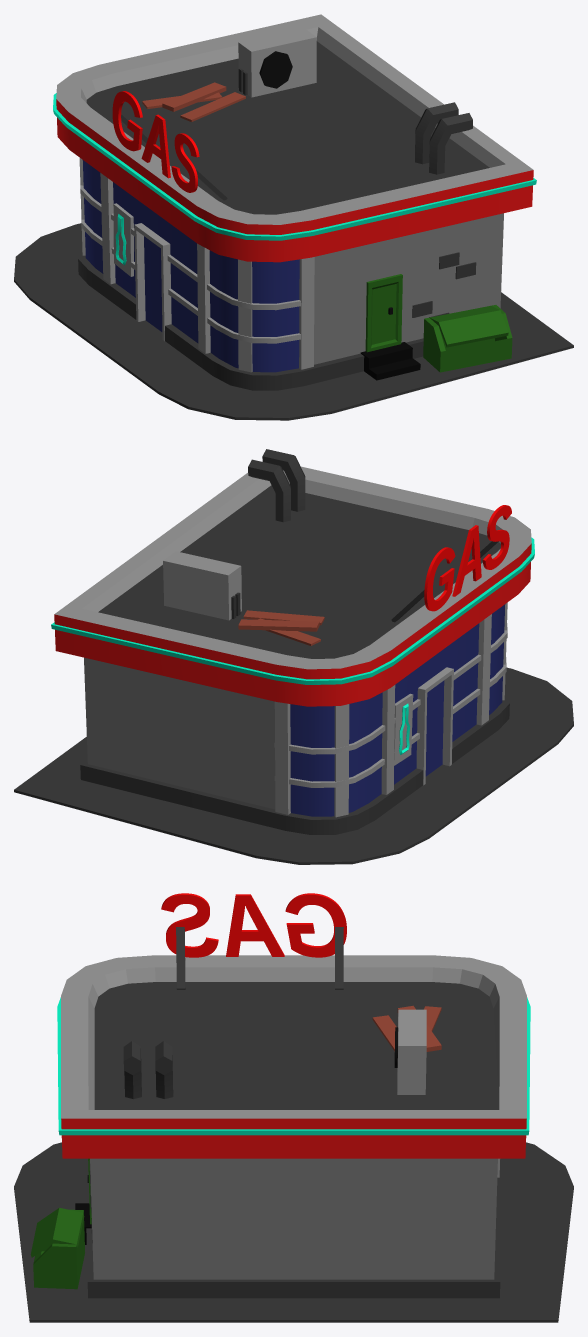
File: BuildingGasStantionBase.fbx
The picture shows the model from 3 angles, top to bottom: view 1: azimuth 30°, elevation 25°; view 2: azimuth 150°, elevation 25°; view 3: azimuth 270°, elevation 25°; orthographic projection. The views are drawn at different scales.
Parts seen in each view (by area): view 1: BuildingGasStantionBase; view 2: BuildingGasStantionBase; view 3: BuildingGasStantionBase.
Boxes of the visible parts, box(x1,y1,x2,y2) form: BuildingGasStantionBase: box(14, 14, 573, 420); BuildingGasStantionBase: box(14, 449, 573, 864); BuildingGasStantionBase: box(14, 893, 573, 1322).
Bounding box in the file's own units: 10.99 × 6.93 × 13.55.
